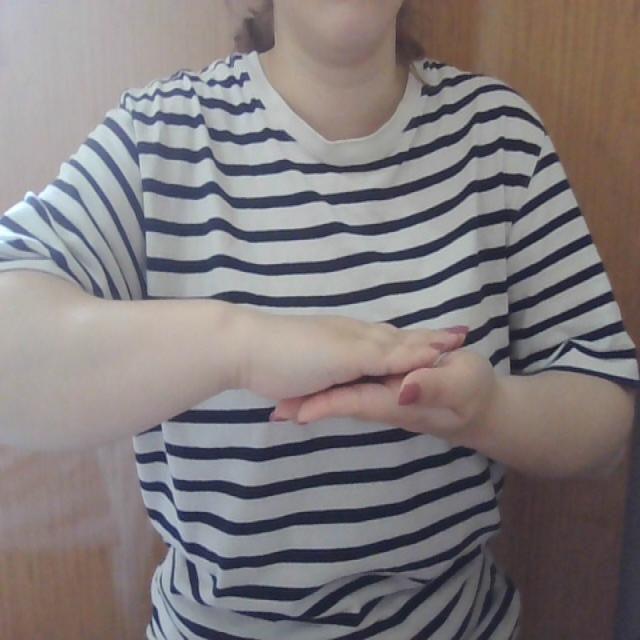Arkadas: (186, 298, 576, 457)
